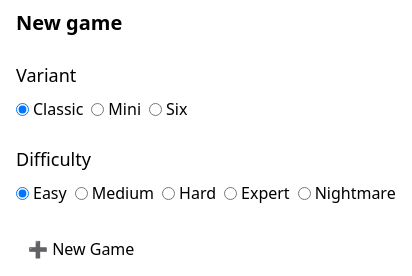
it: Home screen › shows only Easy when Mini is selected
Click the radio button with test id "home-variant-mini": (98, 109) [91, 102, 104, 116]
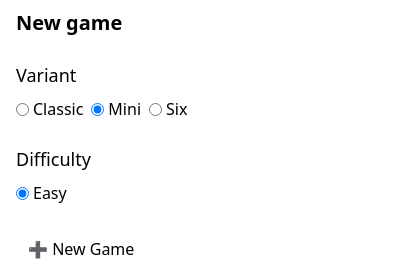
Check: the radio button with test id "home-difficulty-medium" is gone
Check: the radio button with test id "home-difficulty-hard" is gone
Check: the radio button with test id "home-difficulty-expert" is gone
